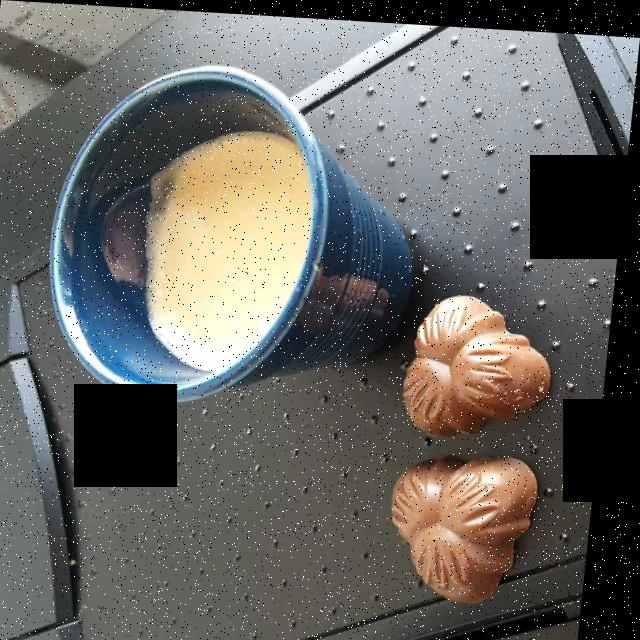coffee-with-caffeine: (148, 132, 307, 369)
praline: (402, 452, 544, 597), (412, 290, 558, 431)
